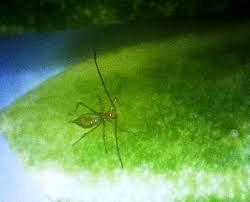Helopeltis-insect: (68, 100, 121, 138)
